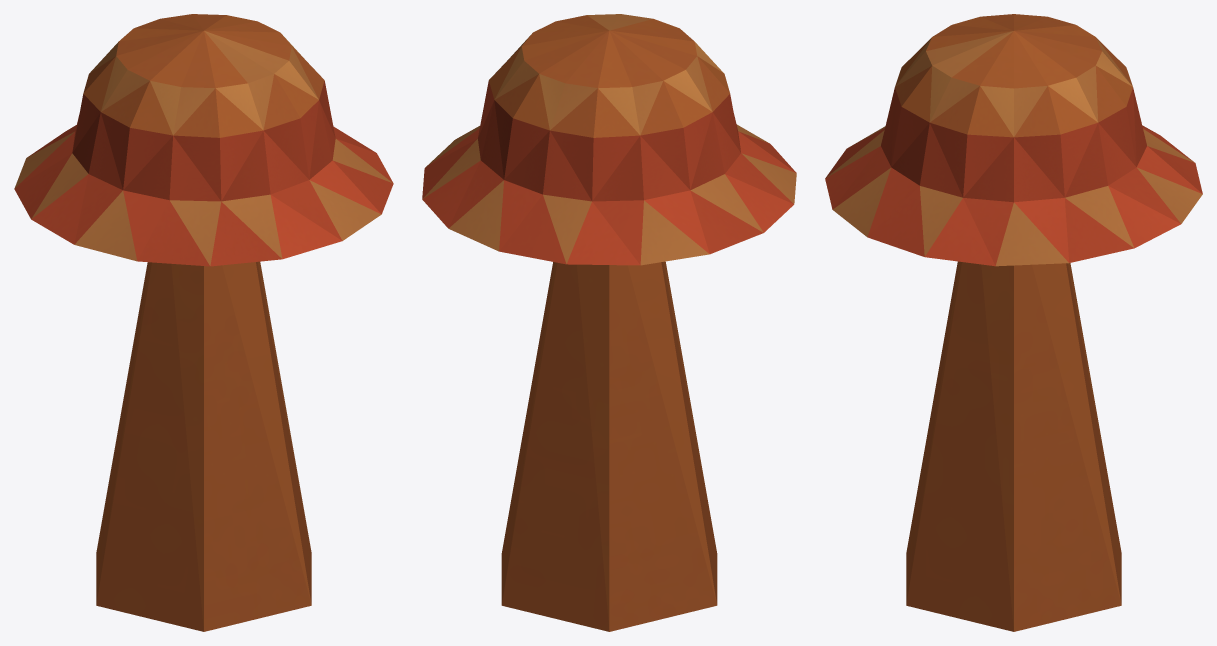
File: Mushroom_Single_2.fbx
3 views of the same model, side by side, from view 1: azimuth 30°, elevation 25°; view 2: azimuth 150°, elevation 25°; view 3: azimuth 270°, elevation 25° (orthographic).
Visible parts, largest first — view 1: polySurface706; view 2: polySurface706; view 3: polySurface706.
Boxes of the visible parts, bbox=[...] form: polySurface706: bbox=[14, 14, 393, 631]; polySurface706: bbox=[422, 14, 796, 631]; polySurface706: bbox=[825, 14, 1202, 631].
Bounding box in the file's own units: 131 × 211 × 131.
Materials: 1 (1 with a texture image).
